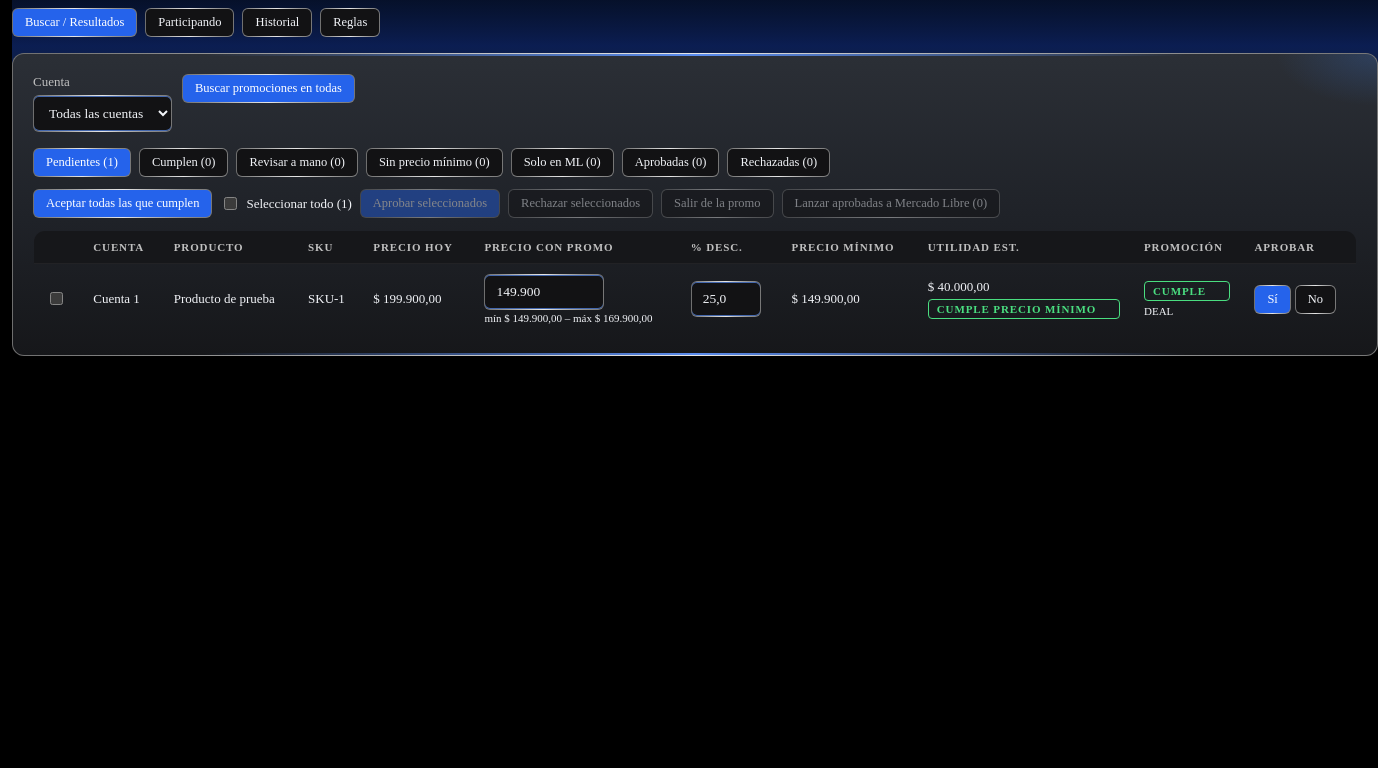
Scenario: PaginaPromociones — punto 2 (rama fix-promociones-edicion): Sí es una decisión directa, con toast › si el fetch se cae (red), nunca se queda 'sin pasar nada' — muestra un toast y el botón vuelve a habilitarse
The width and height of the screenshot is (1378, 768).
Expected: the text "Producto de prueba" is shown, [162,264,296,334]
Click the button "Sí" at (1273, 299), box [1254,284,1291,314]
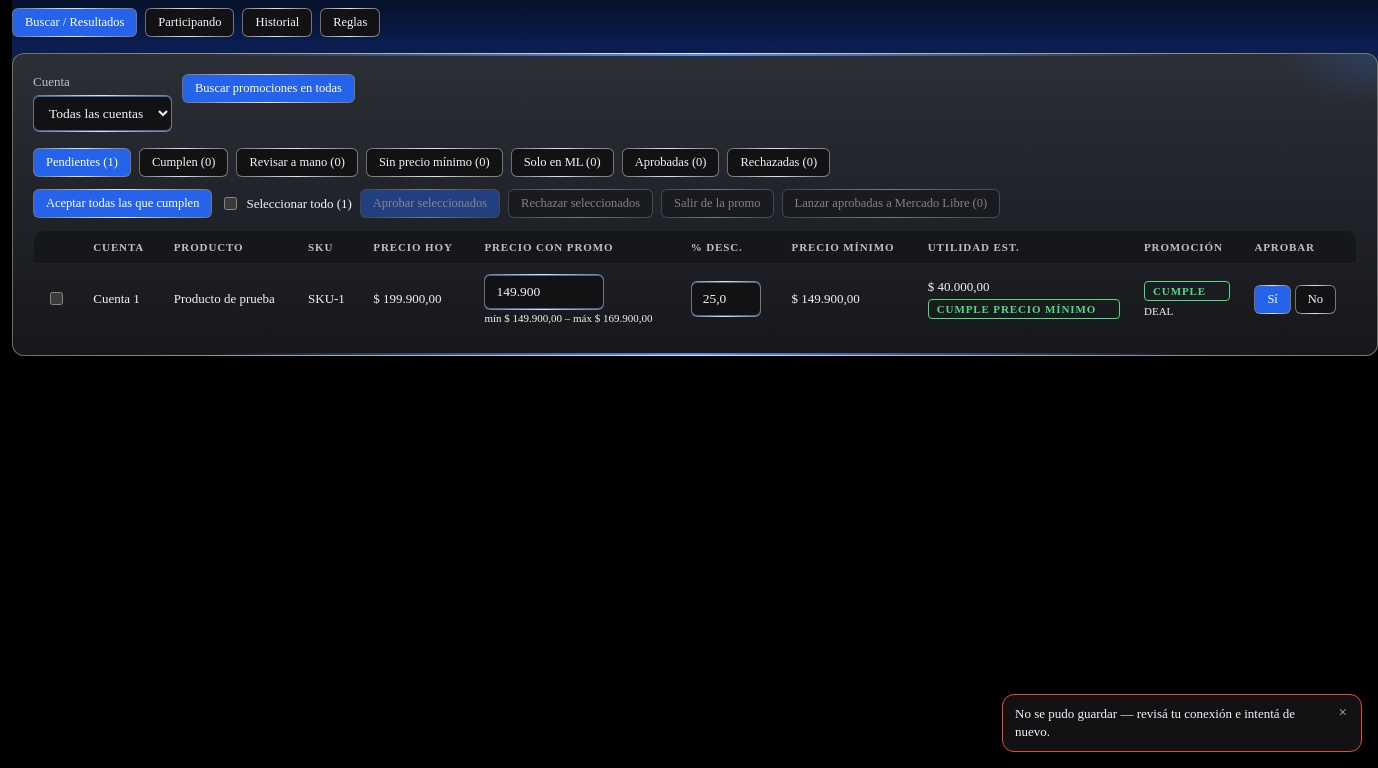
Expected: the text "No se pudo guardar — revisá tu conexión e intentá de nuevo." is shown, [1015,705,1328,741]
